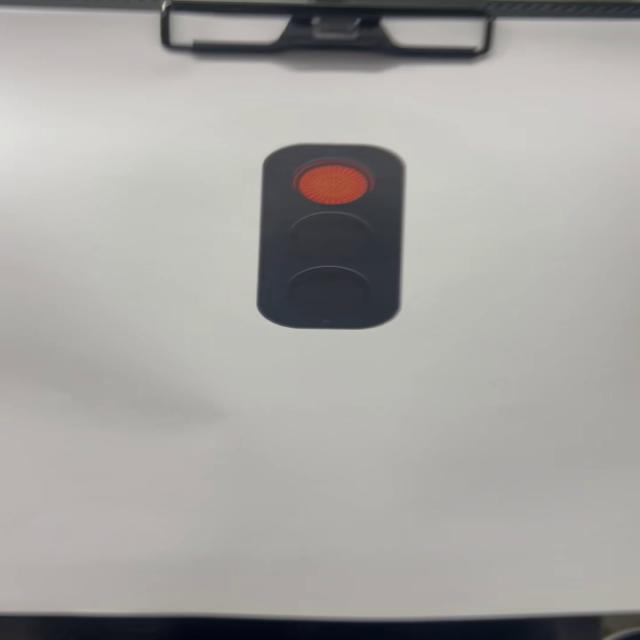red: (256, 141, 405, 330)
